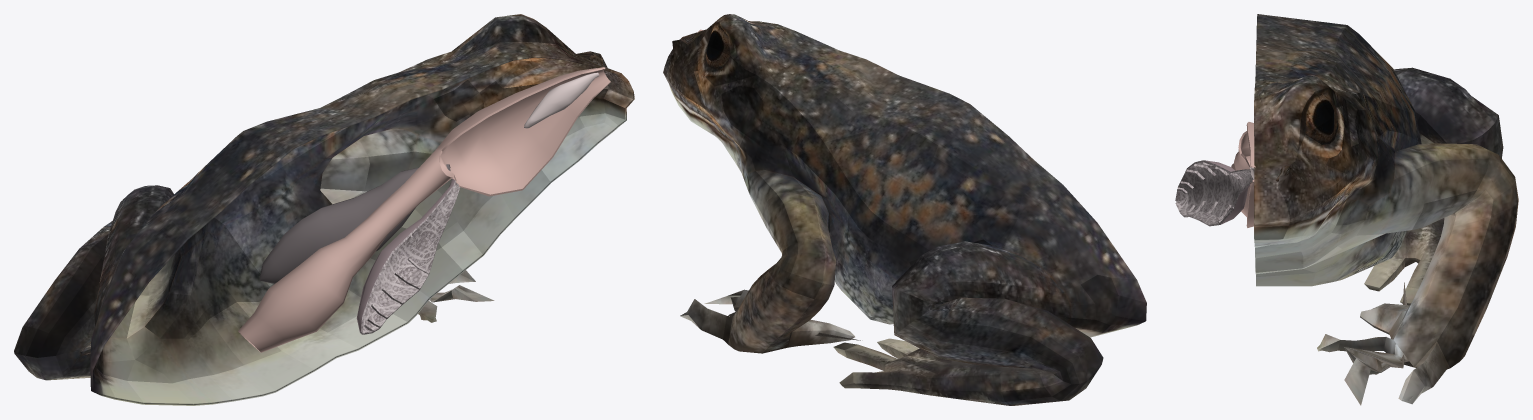
Rendered from frog breath in.fbx.
3 renders of one model, left to right at view 1: azimuth 30°, elevation 25°; view 2: azimuth 150°, elevation 25°; view 3: azimuth 270°, elevation 25°, orthographic. The views are drawn at different scales.
Visible parts, largest first — view 1: Frog, pCylinder1, polySurface1, pCylinder3, pCylinder4; view 2: Frog; view 3: Frog, polySurface1, pCylinder1.
Boxes of the visible parts, box(x1,y1,x2,y2) form: Frog: box(14, 14, 634, 405); pCylinder1: box(238, 67, 610, 352); polySurface1: box(356, 179, 460, 334); pCylinder3: box(259, 164, 450, 283); pCylinder4: box(524, 72, 599, 128); Frog: box(663, 14, 1146, 405); Frog: box(1254, 14, 1518, 405); polySurface1: box(1175, 160, 1253, 226); pCylinder1: box(1231, 122, 1255, 227).
Size of the model in its own units: 102 by 54.15 by 52.6.
